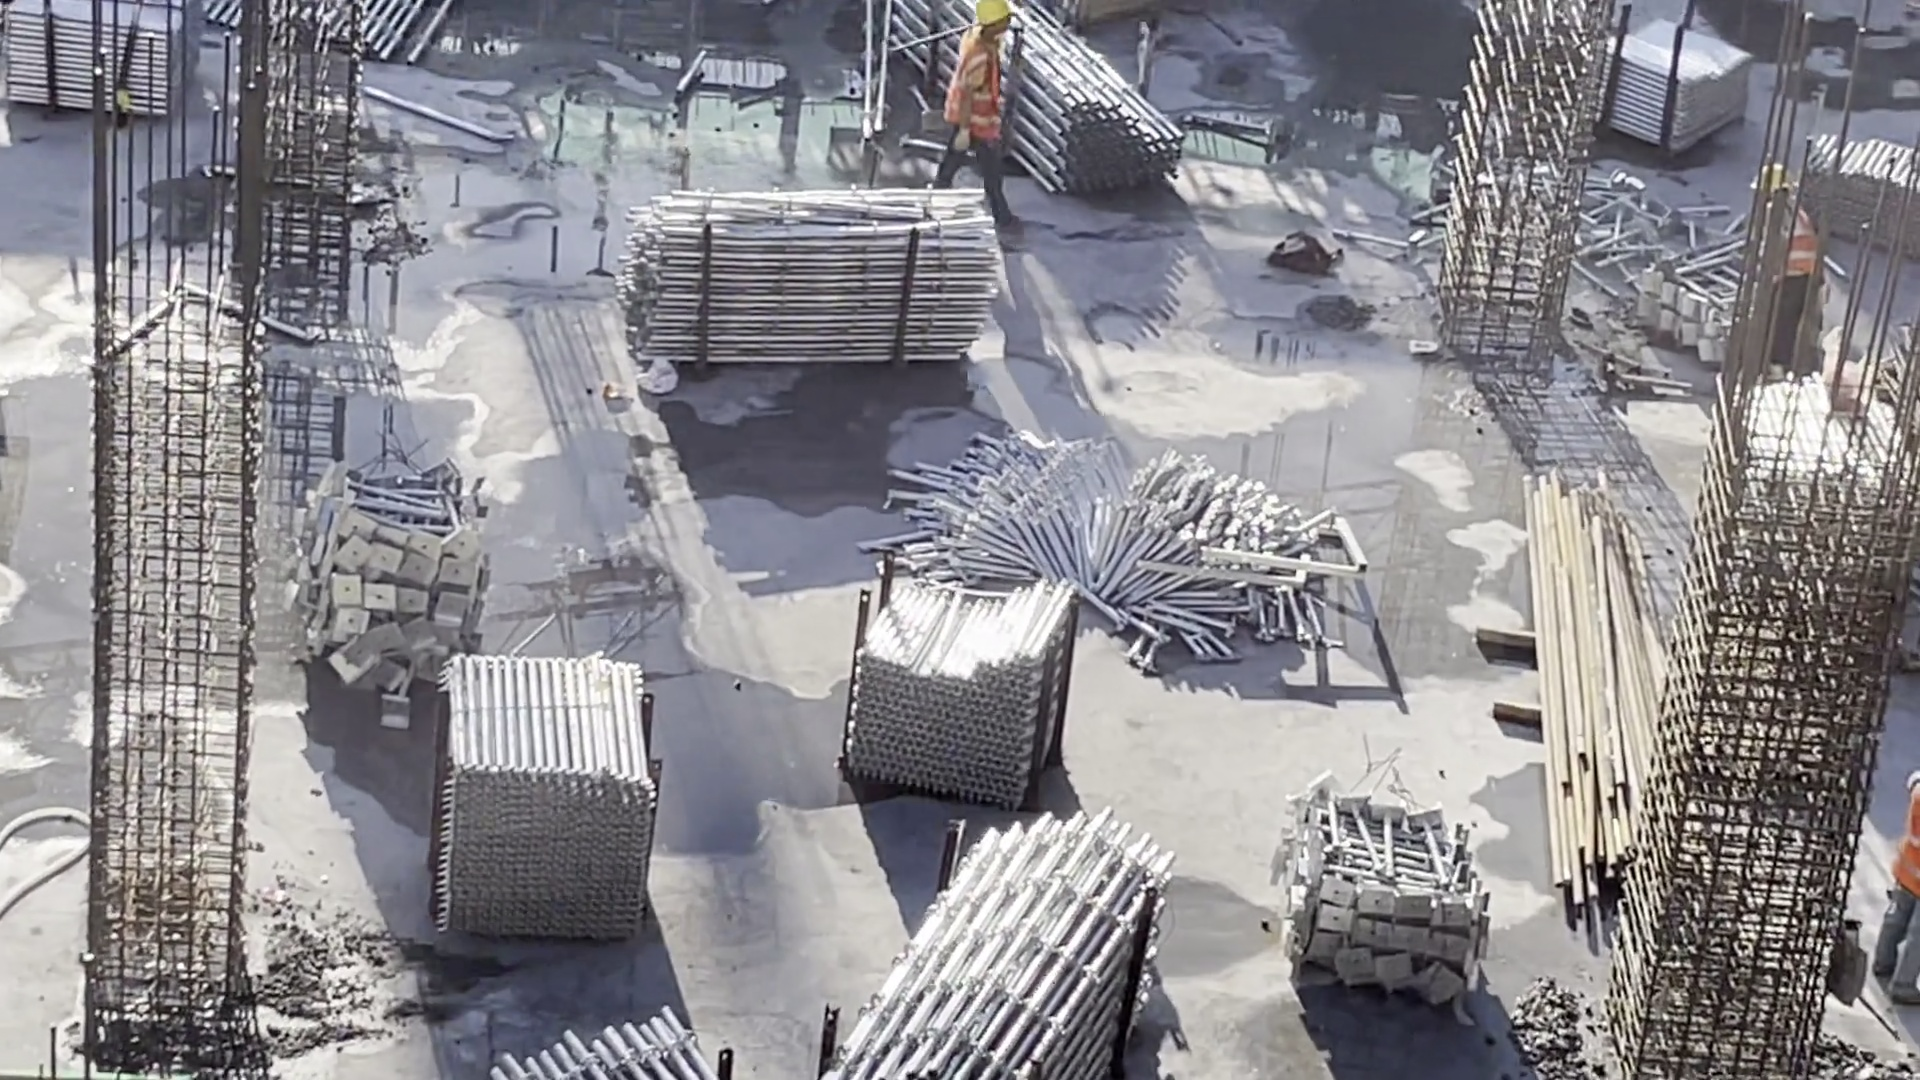helmet: (1741, 160, 1806, 195), (978, 1, 1015, 41)
person: (927, 1, 1037, 242), (1732, 157, 1832, 380), (1852, 742, 1920, 1006)
scaffold: (914, 432, 1372, 674), (816, 816, 1154, 1080), (620, 180, 1015, 375), (426, 647, 663, 938), (852, 557, 1072, 807), (907, 1, 1191, 190), (302, 465, 491, 702), (1278, 794, 1469, 985), (1, 18, 214, 136), (466, 998, 740, 1080), (1600, 1, 1732, 165), (1809, 114, 1920, 250)
vest: (947, 43, 1010, 151), (1761, 191, 1824, 279), (1886, 765, 1920, 909)
